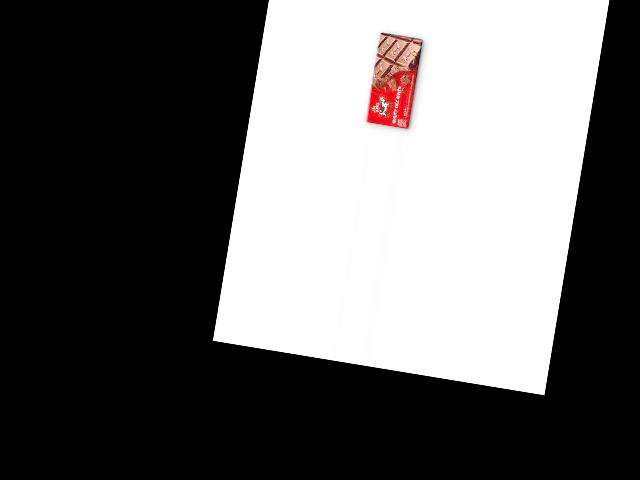chocolate: (363, 30, 426, 132)
